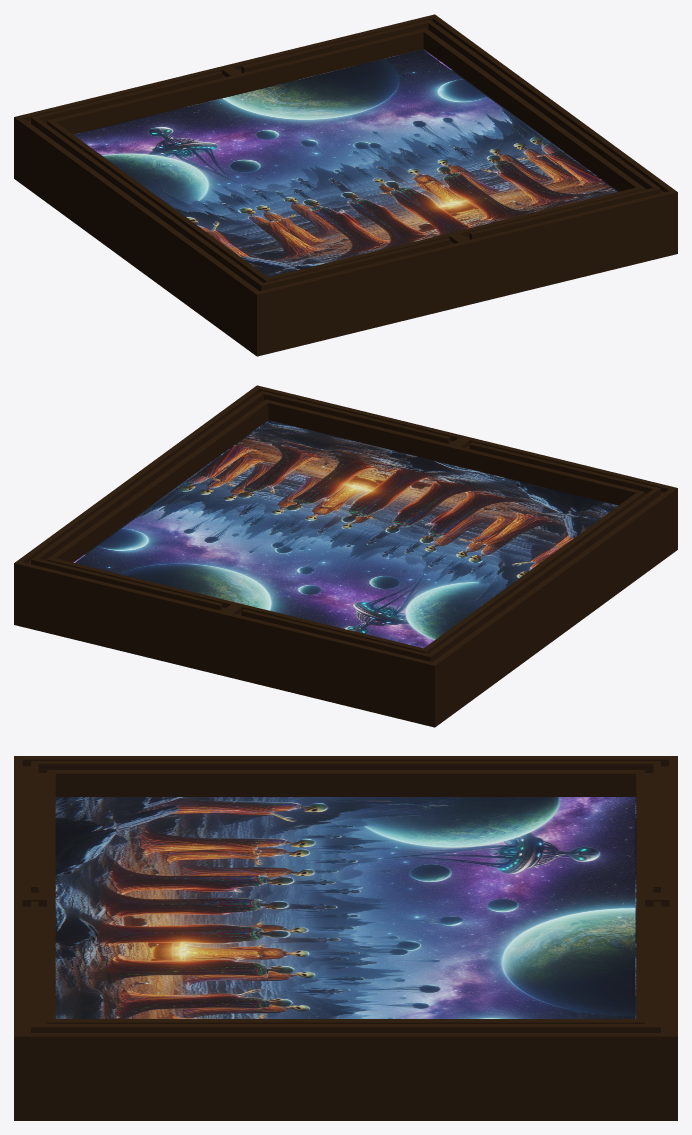
File: Picture.glb
3 views of the same model, one above another, from view 1: azimuth 30°, elevation 25°; view 2: azimuth 150°, elevation 25°; view 3: azimuth 270°, elevation 25° (orthographic). The views are drawn at different scales.
Parts seen in each view (by area): view 1: Cube; view 2: Cube; view 3: Cube.
Part boxes in pixels (<box>): Cube: <box>14,14,677,356</box>; Cube: <box>14,385,677,727</box>; Cube: <box>14,756,677,1120</box>.
Size of the model in its own units: 2 by 0.2878 by 2.
2 materials, 1 textured.
